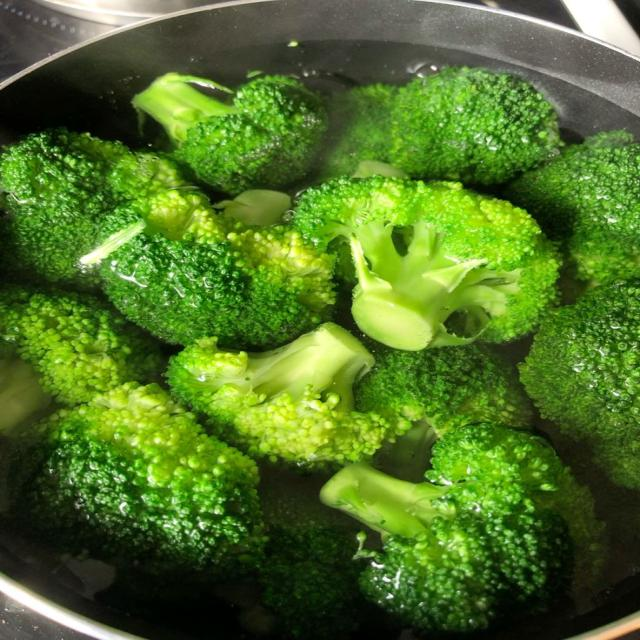broccoli: (321, 424, 599, 632), (14, 382, 264, 581), (294, 176, 559, 350), (83, 190, 334, 348), (167, 323, 410, 469), (0, 128, 184, 287), (520, 280, 639, 489), (354, 343, 533, 480), (134, 73, 326, 195), (258, 466, 383, 639), (388, 67, 561, 185), (505, 131, 639, 283), (0, 286, 166, 405), (354, 343, 532, 435), (259, 517, 366, 639), (320, 83, 398, 179), (0, 346, 53, 435), (214, 190, 292, 226)
